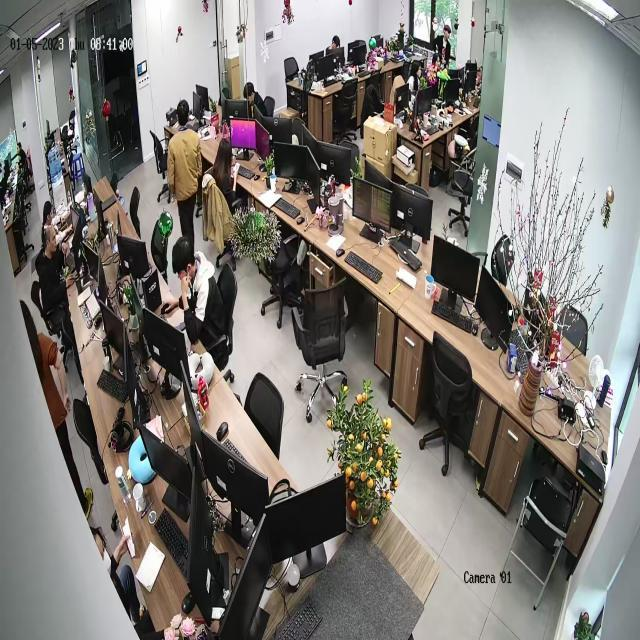person: (18, 291, 94, 524), (160, 235, 234, 369), (167, 99, 204, 247), (35, 224, 82, 338), (202, 133, 237, 271), (40, 196, 74, 248), (433, 21, 456, 67), (405, 58, 425, 99)
